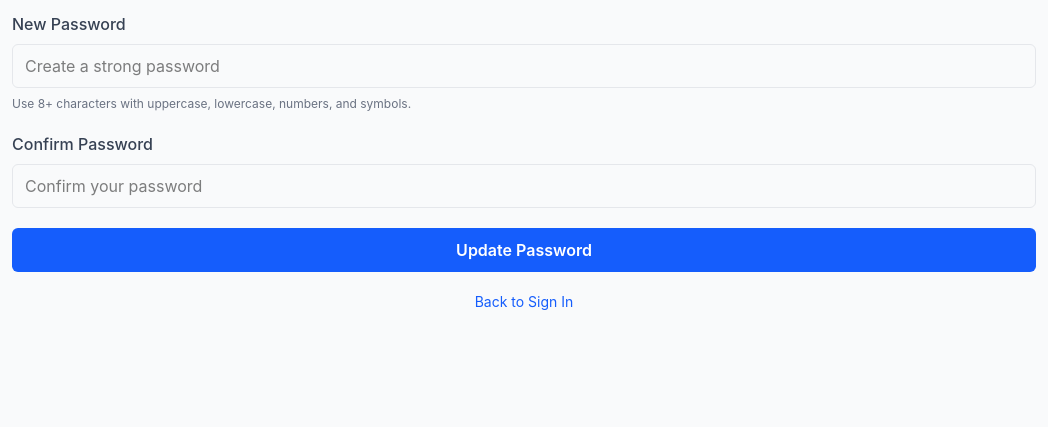
Test case: ResetPasswordForm › new password mode (with token) › successful reset redirects to /login
Step 1. Type "SecurePass123!" into the password field labelled "New Password" → (524, 66), box [12,44,1036,88]
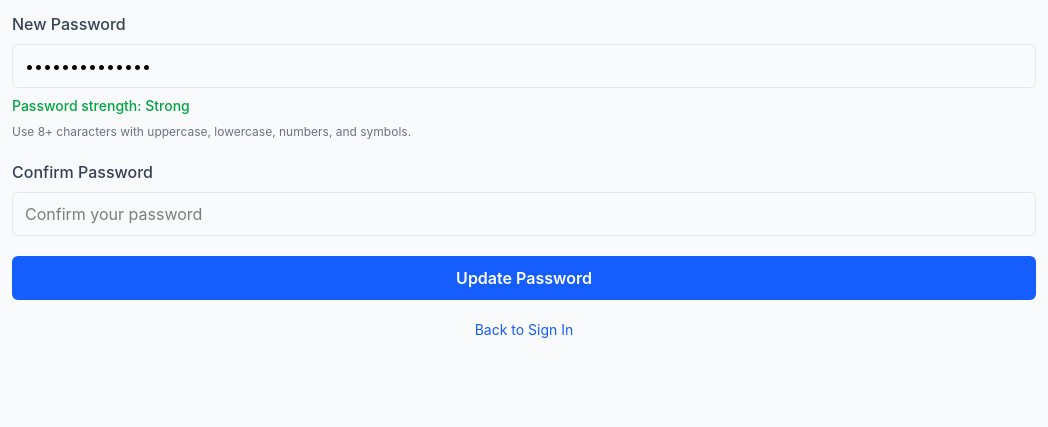
Step 2. Type "SecurePass123!" into the password field labelled "Confirm Password" → (524, 214), box [12,192,1036,236]
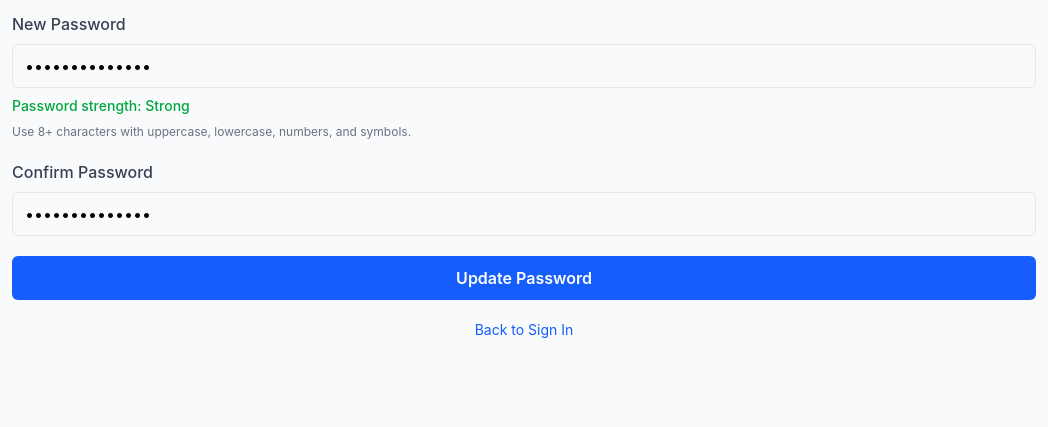
Step 3. Click the button "Update Password" → (524, 278), box [12,256,1036,300]
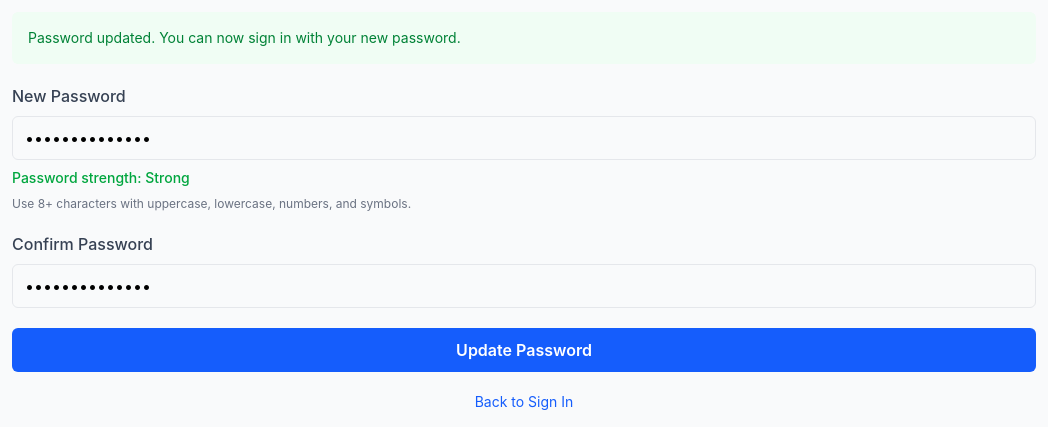
expect the text "Password updated. You can now sign in with your new password." is shown: met, box [12,12,1036,64]
